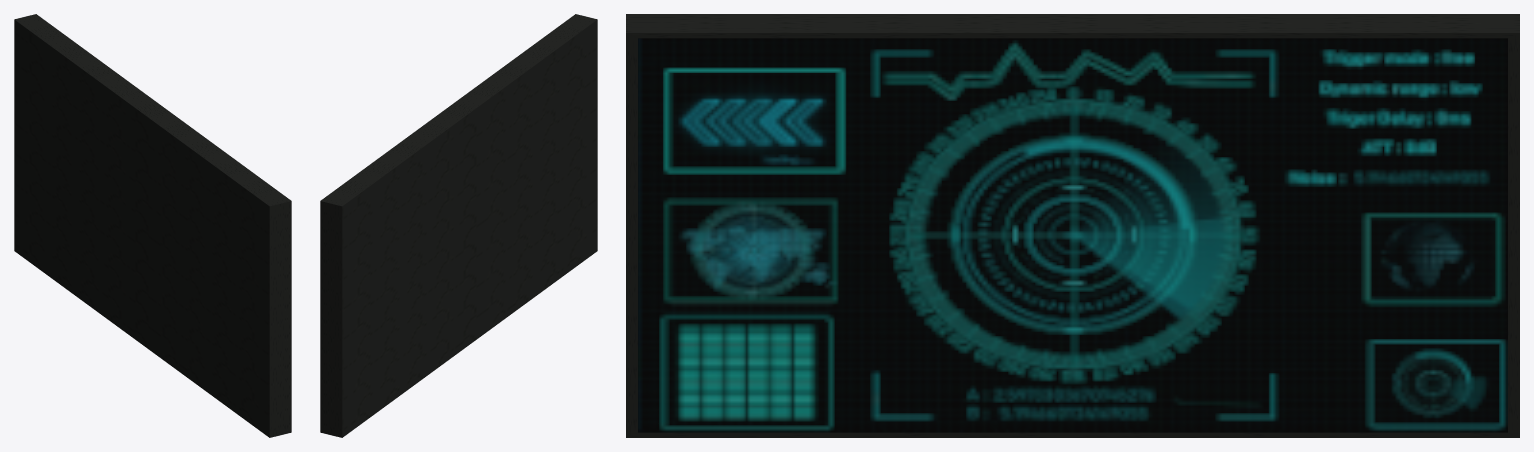
The model's file is Screen.glb.
3 renders of one model, left to right at view 1: azimuth 30°, elevation 25°; view 2: azimuth 150°, elevation 25°; view 3: azimuth 270°, elevation 25°, orthographic. The views are drawn at different scales.
Parts seen in each view (by area): view 1: Screen; view 2: Screen; view 3: Screen.
Boxes of the visible parts, left/top/right/bottom form: Screen: left=14, top=14, right=291, bottom=437; Screen: left=320, top=14, right=597, bottom=437; Screen: left=626, top=14, right=1519, bottom=437.
Bounding box in the file's own units: 0.16 × 1.6 × 3.2.
Materials: 2 (2 with a texture image).
